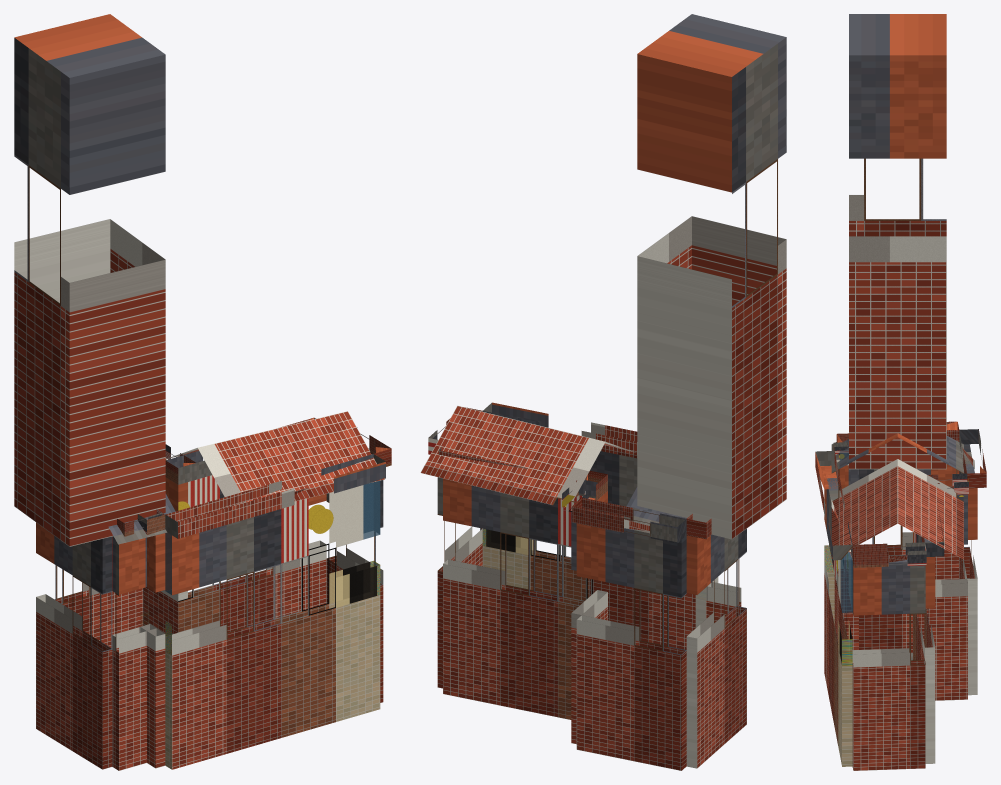
3 views of the same model, side by side, from view 1: azimuth 30°, elevation 25°; view 2: azimuth 150°, elevation 25°; view 3: azimuth 270°, elevation 25° (orthographic). The views are drawn at different scales.
Visible parts, largest first — view 1: 1106964398__chimney_0_xb, 1106964398__wall_2_xb, 1106964398__wall_5_xb, 1106964398_roof_-1_xb, 1106964398__wall_0_xb, 1106964398__wall_4_xb, 1106964398__cornice_2, 1106964398__wall_3_xb, 1106964398__wall_2_xf, 1106964398__wall_6_xb, 1106964398__wall_7_xb, 1106964398__wall_1_xb (+1 smaller); view 2: 1106964398__chimney_0_xb, 1106964398__wall_0_xb, 1106964398__wall_6_xb, 1106964398_roof_1_xb, 1106964398__wall_5_xb, 1106964398__wall_2_xb, 1106964398__cornice_6, 1106964398__wall_1_xb, 1106964398__cornice_2, 1106964398__wall_7_xb, 1106964398__wall_4_xb, 1106964398__wall_2_xf (+1 smaller); view 3: 1106964398__chimney_0_xb, 1106964398__wall_1_xb, 1106964398__wall_2_xb, 1106964398_roof_1_xb, 1106964398__wall_7_xb, 1106964398_roof_-1_xb, 1106964398__wall_5_xb, 1106964398__wall_0_xb, 1106964398__wall_6_xb, 1106964398__cornice_1, 1106964398__wall_2_xf, 1106964398__cornice_2 (+5 smaller).
Part boxes in pixels (x1,y1,x2,y2): 1106964398__chimney_0_xb: (14, 14, 165, 546); 1106964398__wall_2_xb: (165, 481, 380, 769); 1106964398__wall_5_xb: (36, 522, 112, 769); 1106964398_roof_-1_xb: (108, 411, 384, 544); 1106964398__wall_0_xb: (178, 475, 326, 632); 1106964398__wall_4_xb: (112, 536, 156, 770); 1106964398__cornice_2: (165, 454, 385, 538); 1106964398__wall_3_xb: (140, 533, 165, 768); 1106964398__wall_2_xf: (165, 481, 379, 654); 1106964398__wall_6_xb: (54, 565, 142, 647); 1106964398__wall_7_xb: (143, 477, 187, 634); 1106964398__wall_1_xb: (326, 480, 383, 702); 1106964398__chimney_0_xb: (637, 14, 786, 539); 1106964398__wall_0_xb: (443, 478, 592, 719); 1106964398__wall_6_xb: (576, 523, 686, 770); 1106964398_roof_1_xb: (420, 405, 693, 525); 1106964398__wall_5_xb: (686, 529, 746, 768); 1106964398__wall_2_xb: (482, 451, 695, 649); 1106964398__cornice_6: (572, 497, 686, 543); 1106964398__wall_1_xb: (437, 477, 482, 688); 1106964398__cornice_2: (482, 402, 637, 458); 1106964398__wall_7_xb: (571, 491, 607, 744); 1106964398__wall_4_xb: (706, 559, 741, 622); 1106964398__wall_2_xf: (483, 529, 532, 554); 1106964398__chimney_0_xb: (849, 14, 946, 469); 1106964398__wall_1_xb: (852, 560, 925, 770); 1106964398__wall_2_xb: (824, 465, 852, 766); 1106964398_roof_1_xb: (897, 433, 963, 559); 1106964398__wall_7_xb: (913, 494, 967, 700); 1106964398_roof_-1_xb: (831, 433, 897, 559); 1106964398__wall_5_xb: (859, 464, 959, 652); 1106964398__wall_0_xb: (913, 533, 935, 763); 1106964398__wall_6_xb: (959, 444, 977, 695); 1106964398__cornice_1: (852, 542, 926, 567); 1106964398__wall_2_xf: (824, 545, 852, 665); 1106964398__cornice_2: (815, 451, 852, 560).
Size of the model in its own units: 0.508 by 1.05 by 0.263.
Materials: 1 (1 with a texture image).
